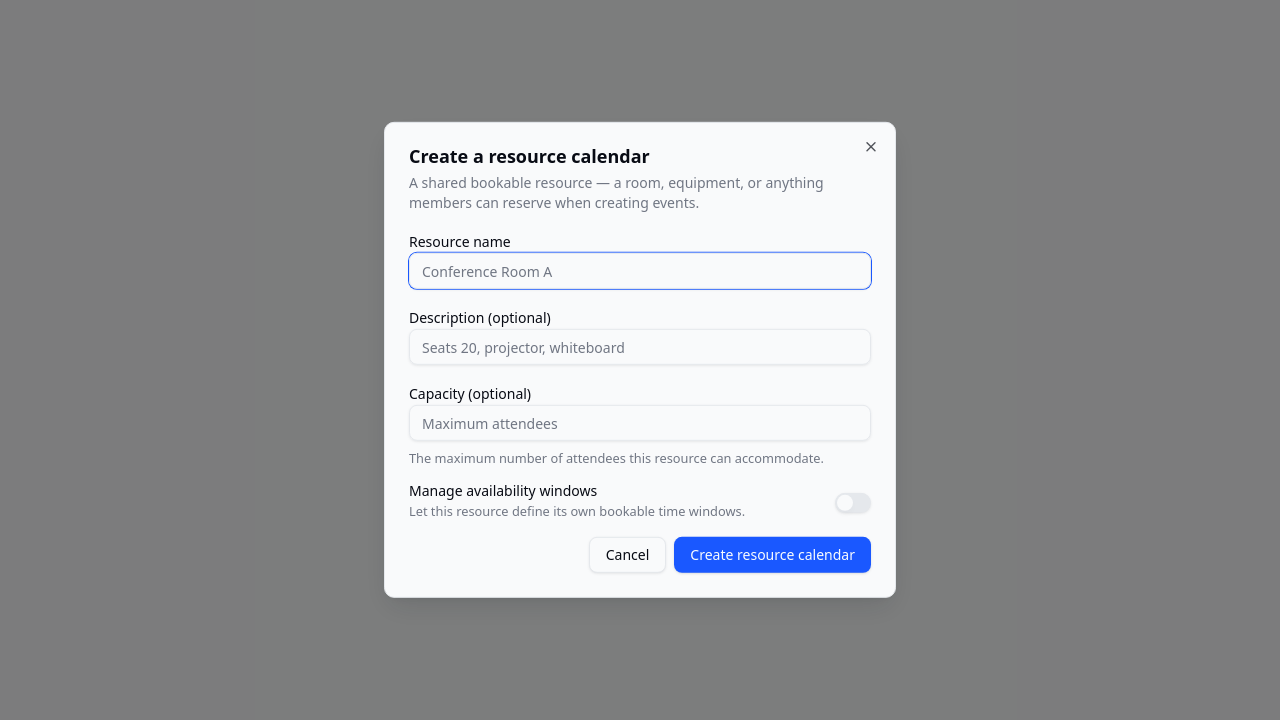
Test: CreateResourceCalendarDialog › submit disabled while pending › disables the submit button while the mutation is pending
Step 1. Type "Pending Room" into the field labelled "Resource name" → (640, 271), box x1=409 y1=253 x2=871 y2=289
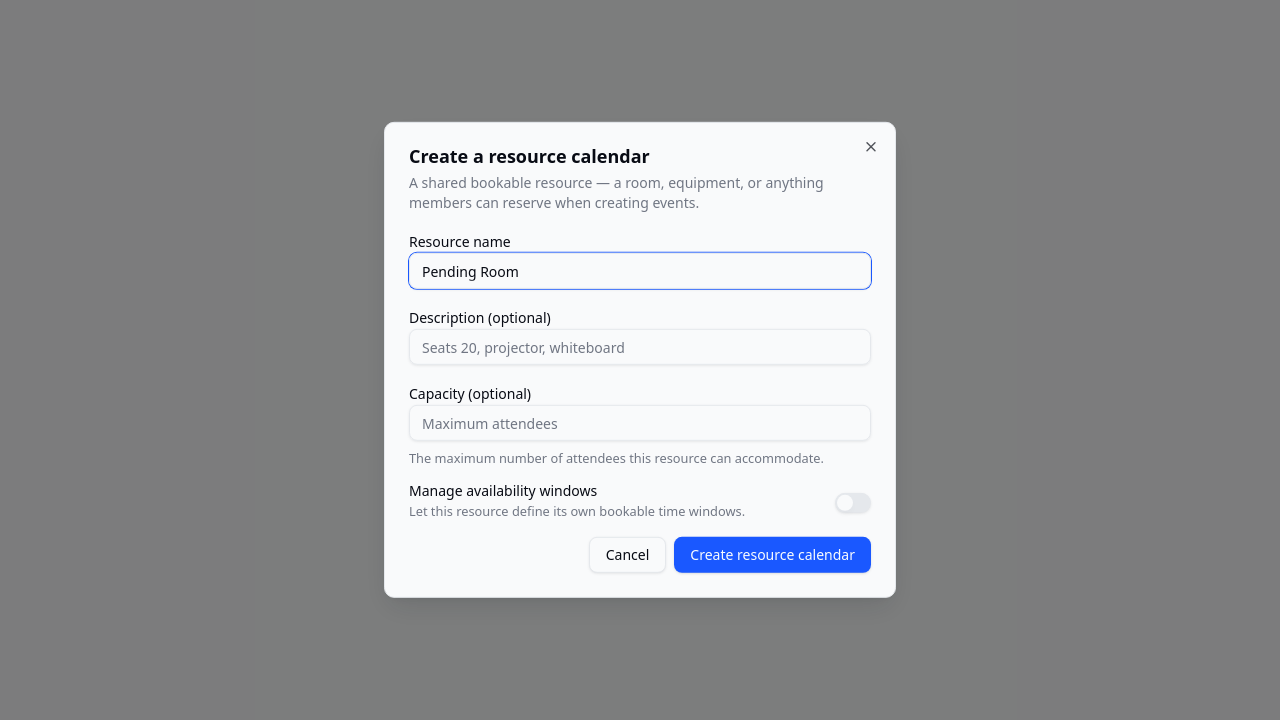
Step 2. Click the button "Create resource calendar" → (773, 555), box x1=674 y1=537 x2=871 y2=573
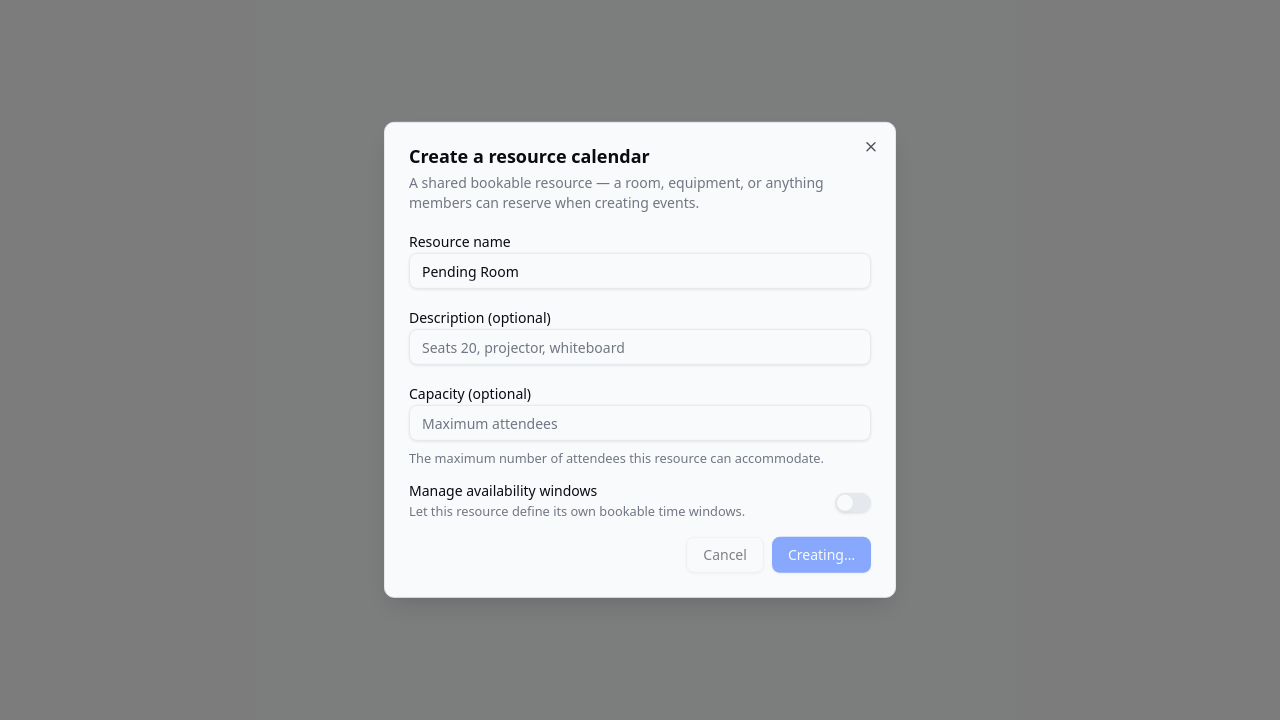
Expected: the button "Creating…" is disabled, x1=772 y1=537 x2=871 y2=573
